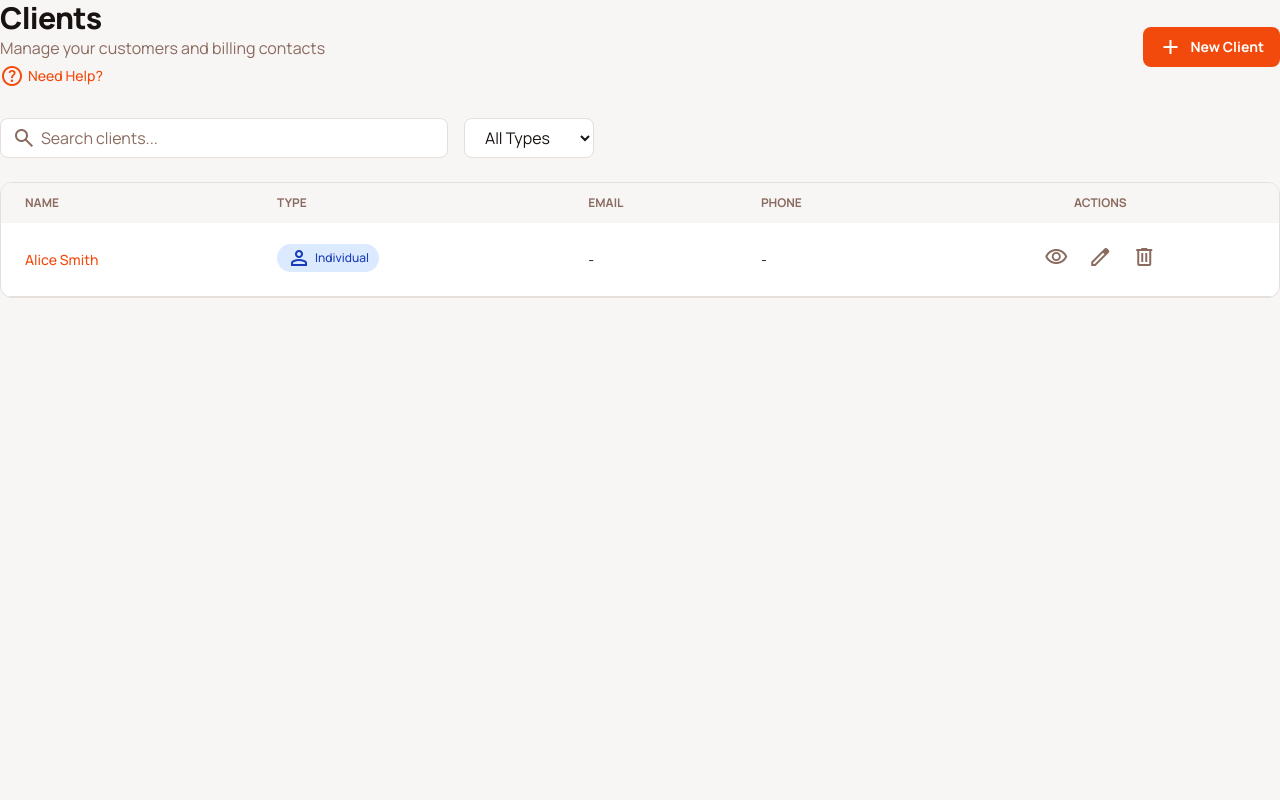
Test case: ClientListPage delete flow (SOUP-1929) › says the client was kept, and leaves the list alone, when the delete is blocked by linked records
The image size is (1280, 800).
Click the button with test id "client-delete-c1" at {"x": 1144, "y": 260}, box [1126,239,1162,280]
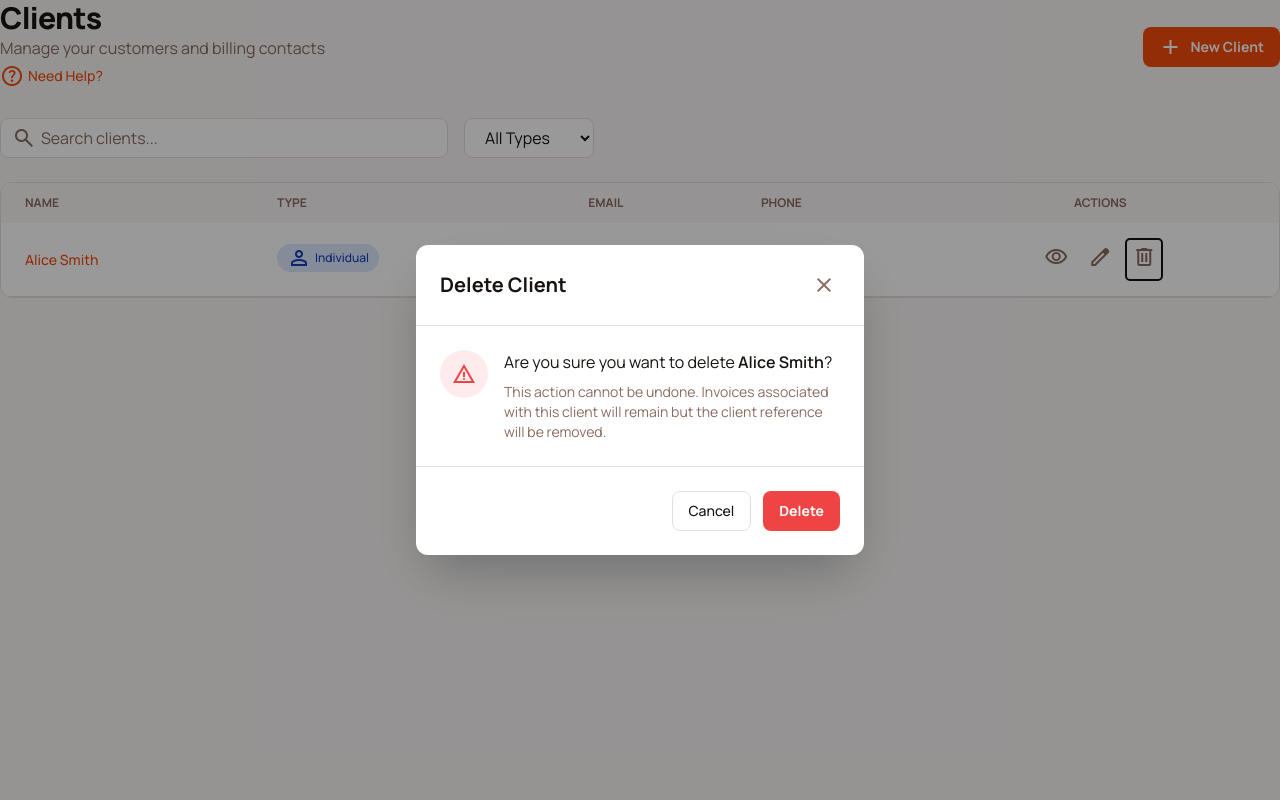
Click the button with test id "delete-confirm-button" at {"x": 802, "y": 511}, box [763,491,840,531]
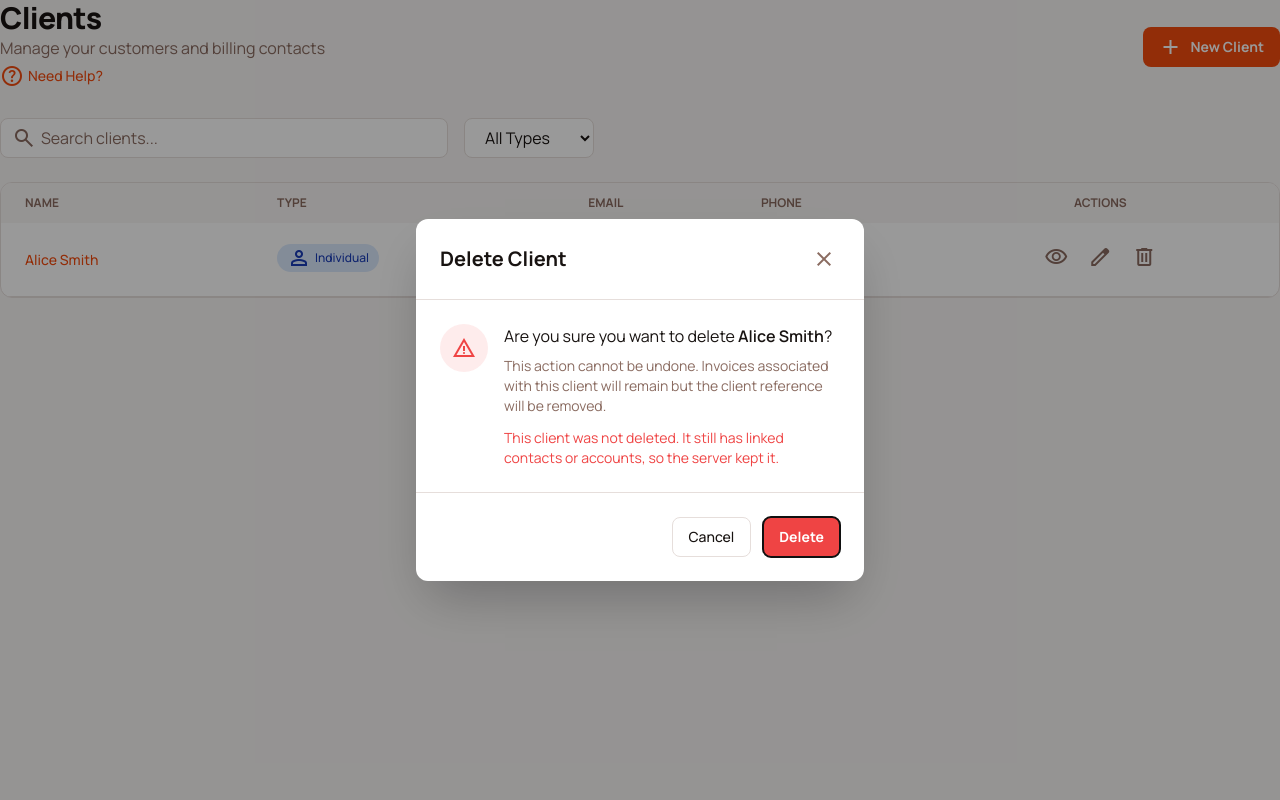
Expected: the message with test id "client-delete-error" does not show "try again", [504,428,784,467]
Result: the element with test id "delete-confirmation-modal" is shown
Result: the message with test id "client-delete-error" shows "This client was not deleted" at [504,428,784,467]
